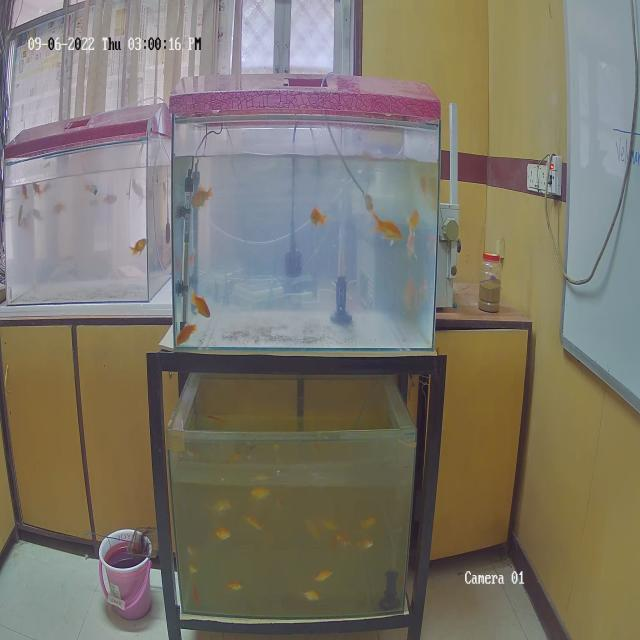goldfish: (373, 214, 405, 242), (190, 291, 214, 322)
